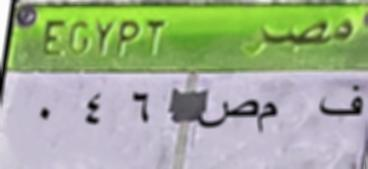0: (32, 104, 69, 132)
4: (80, 80, 110, 132)
6: (126, 86, 157, 130)
faa: (311, 79, 365, 123)
meem: (257, 100, 287, 137)
saad: (201, 94, 256, 132)
